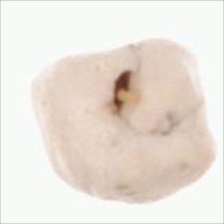L3: (108, 67, 143, 123)
L4: (30, 39, 217, 204)
